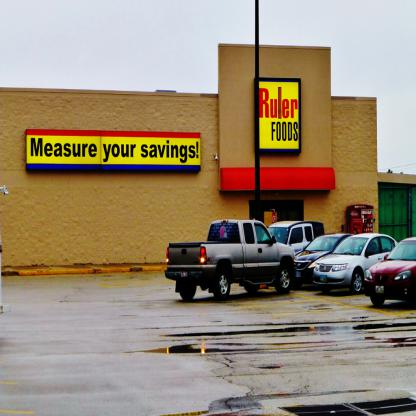Car: (312, 230, 398, 296), (362, 240, 416, 306), (262, 220, 324, 276), (295, 234, 352, 287)
Truck: (160, 216, 310, 307)
